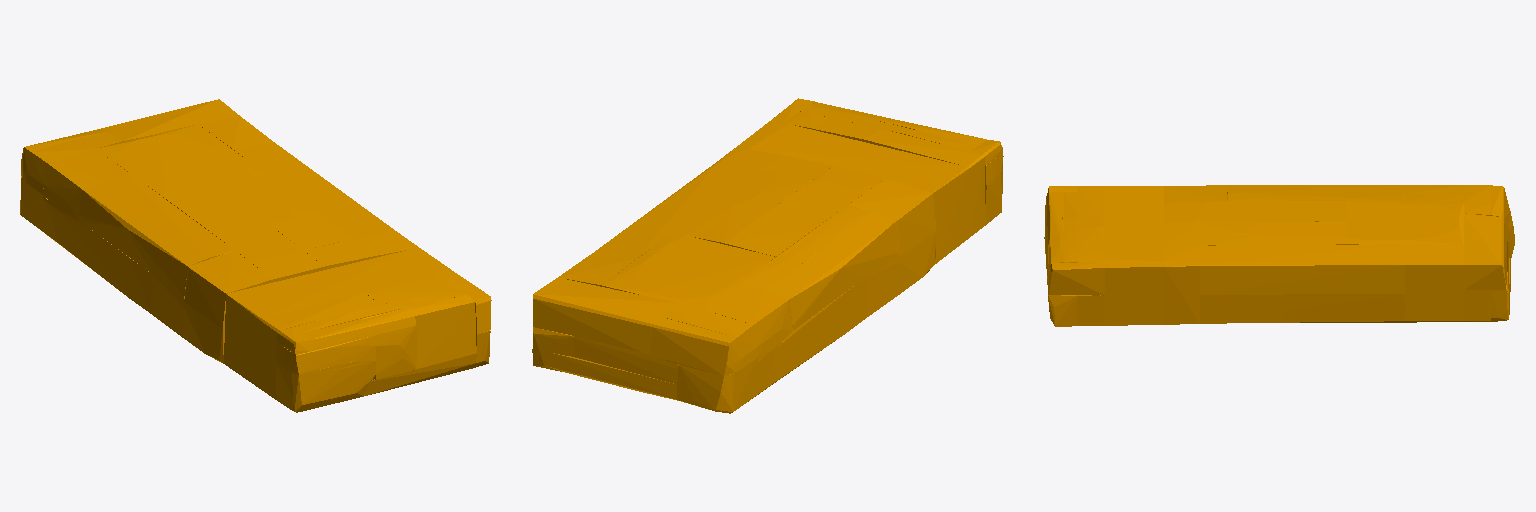
URDF robot description (box-iglo):
<?xml version="1.0" ?>
<robot name="box-iglo">
  <link name="baseLink">
    <contact>
      <lateral_friction value="1.0"/>
      <inertia_scaling value="3.0"/>
    </contact>
    <inertial>
      <origin rpy="0 0 0" xyz="0.000 0.000 0.000"/>
       <mass value=".1"/>
       <inertia ixx="1" ixy="0.0" ixz="0.0" iyy="1" iyz="0.0" izz="1"/>
    </inertial>
    <visual>
      <origin rpy="0 0 0" xyz="0 0 0"/>
      <geometry>
        <mesh filename="box/box-iglo.obj" scale="1.0 1.0 1.0"/>
      </geometry>
    </visual>
    <collision>
      <origin rpy="0 0 0" xyz="0 0 0"/>
      <geometry>
        <mesh filename="../collision/box/box-iglo.obj" scale="1.0 1.0 1.0"/>
      </geometry>
    </collision>
  </link>
</robot>
        

--- Render facts (derived) ---
3 views of the same robot in one strip: view 1: azimuth 30°, elevation 25°; view 2: azimuth 150°, elevation 25°; view 3: azimuth 270°, elevation 25° (orthographic).
Model box-iglo with 1 links and 0 joints (none), rooted at baseLink, posed all joints at 0.
Links seen in each view (by area): view 1: baseLink; view 2: baseLink; view 3: baseLink.
Link boxes in pixels (bbox=[...]): baseLink: bbox=[20, 99, 491, 412]; baseLink: bbox=[532, 98, 1003, 413]; baseLink: bbox=[1044, 185, 1514, 326].
Size in the robot's own frame: 0.1009 by 0.2388 by 0.0384 metres.
Meshes: 1 distinct files referenced, 1 mesh visuals loaded (1 OBJ).